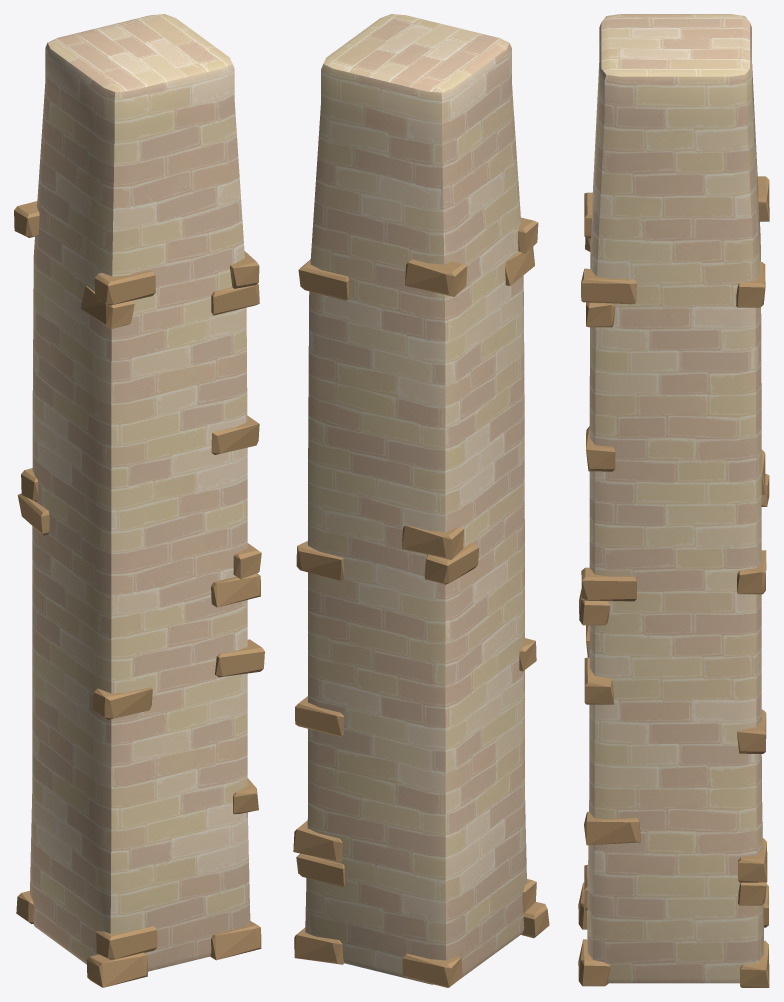
File: SM_wall_connector_02.fbx
The picture shows the model from 3 angles, left to right: view 1: azimuth 30°, elevation 25°; view 2: azimuth 150°, elevation 25°; view 3: azimuth 270°, elevation 25°; orthographic projection. The views are drawn at different scales.
Visible parts, largest first — view 1: Box430; view 2: Box430; view 3: Box430.
Boxes of the visible parts, x1,y1,x2,y2 form: Box430: (14, 14, 264, 987); Box430: (293, 14, 549, 987); Box430: (578, 14, 769, 987).
Bounding box in the file's own units: 40.54 × 206 × 39.3.
